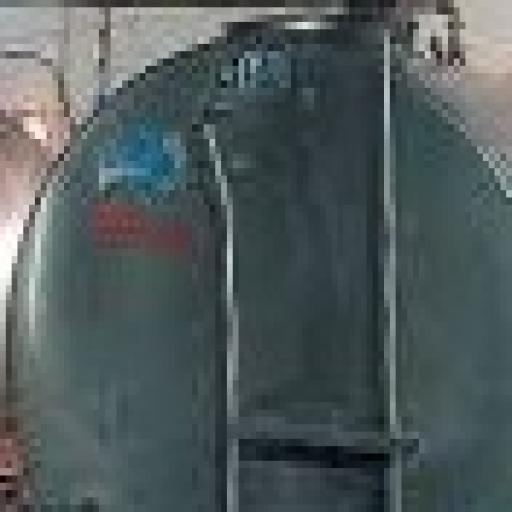silo: (12, 15, 506, 505)
